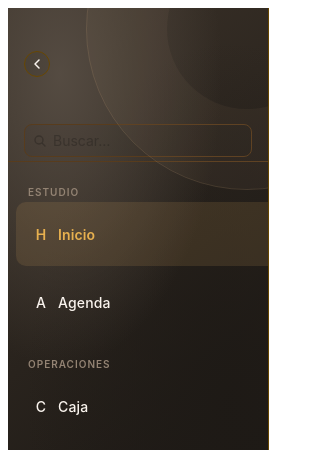
Test case: Sidebar — suksai variant — Search › shows no-results message when query matches nothing
This screenshot has width=320, height=467.
Type "xxxxxxnonexistent" into the search field named "buscar en la navegación" at (162, 140), box [51,131,273,150]
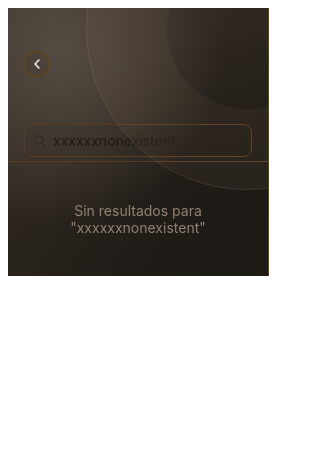
Now the text "Sin resultados para \"xxxxxxnonexistent\"" is shown, box [70,202,206,236]
